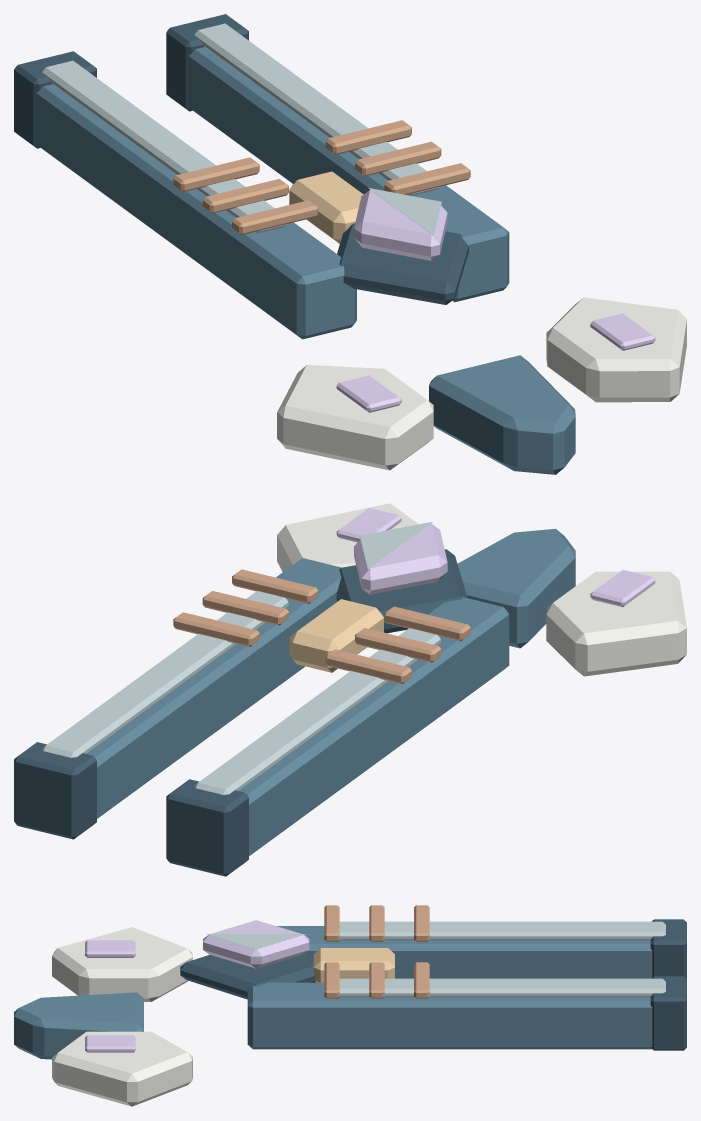
Rendered from rail.glb.
3 renders of one model, top to bottom at view 1: azimuth 30°, elevation 25°; view 2: azimuth 150°, elevation 25°; view 3: azimuth 270°, elevation 25°, orthographic. The views are drawn at different scales.
Parts seen in each view (by area): view 1: LongMagneticRail, LongMagneticRail.001, SeparateAftKeel.002, DetachedAftGuard.004, DetachedAftGuard.005, RailUpperSteel.001, RailUpperSteel, CoreDarkBacking.002, SuspendedPhaseCore.002, RailEmitter, RailMuzzleCap.001, RailMuzzleCap (+9 smaller); view 2: LongMagneticRail, LongMagneticRail.001, DetachedAftGuard.004, SeparateAftKeel.002, RailUpperSteel, RailUpperSteel.001, RailMuzzleCap, RailMuzzleCap.001, SuspendedPhaseCore.002, RailEmitter, DetachedAftGuard.005, CoreDarkBacking.002 (+9 smaller); view 3: LongMagneticRail.001, LongMagneticRail, DetachedAftGuard.005, DetachedAftGuard.004, SeparateAftKeel.002, RailUpperSteel, RailUpperSteel.001, CoreDarkBacking.002, SuspendedPhaseCore.002, RailMuzzleCap.001, RailEmitter, RailMuzzleCap (+9 smaller).
Part boxes in pixels (x1,y1,x2,y2): LongMagneticRail: (36,84,356,339); LongMagneticRail.001: (188,47,509,302); SeparateAftKeel.002: (429,355,575,474); DetachedAftGuard.004: (277,365,433,470); DetachedAftGuard.005: (546,297,686,402); RailUpperSteel.001: (194,23,439,195); RailUpperSteel: (42,60,287,233); CoreDarkBacking.002: (337,223,468,304); SuspendedPhaseCore.002: (354,189,447,260); RailEmitter: (289,171,363,243); RailMuzzleCap.001: (166,14,248,111); RailMuzzleCap: (14,51,96,148); LongMagneticRail: (239,597,509,855); LongMagneticRail.001: (87,558,341,818); DetachedAftGuard.004: (546,571,686,676); SeparateAftKeel.002: (457,528,575,648); RailUpperSteel: (194,628,440,794); RailUpperSteel.001: (42,591,288,757); RailMuzzleCap: (166,779,248,876); RailMuzzleCap.001: (14,742,96,839); SuspendedPhaseCore.002: (354,523,447,594); RailEmitter: (289,599,383,672); DetachedAftGuard.005: (277,503,418,571); CoreDarkBacking.002: (336,549,467,633); LongMagneticRail.001: (247,982,652,1049); LongMagneticRail: (276,926,652,978); DetachedAftGuard.005: (52,1031,192,1106); DetachedAftGuard.004: (52,927,192,1001); SeparateAftKeel.002: (14,992,143,1059); RailUpperSteel: (339,921,665,940); RailUpperSteel.001: (339,978,665,997); CoreDarkBacking.002: (180,954,315,999); SuspendedPhaseCore.002: (203,920,309,968); RailMuzzleCap.001: (650,976,686,1050); RailEmitter: (313,948,394,982); RailMuzzleCap: (650,919,686,978).
Size of the model in its own units: 1.27 by 0.451 by 2.4.
